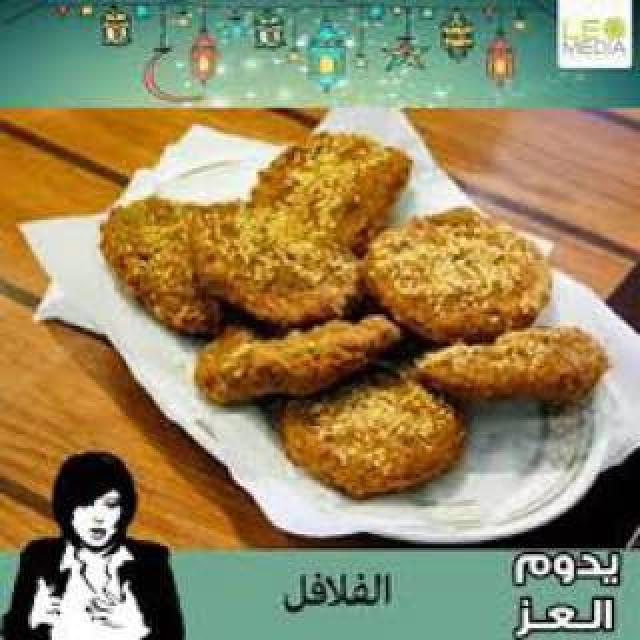taamia: (99, 126, 614, 498)
